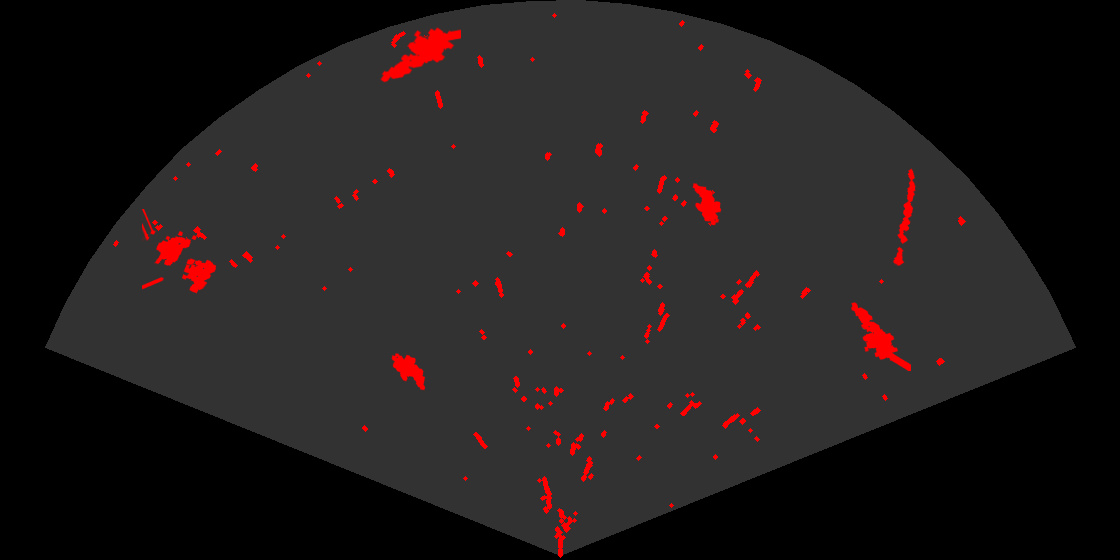AUV: (390, 352, 427, 392), (691, 182, 723, 227)
cage: (142, 209, 218, 295)
chain: (892, 167, 917, 268)
frogman: (379, 26, 461, 84), (849, 301, 911, 371)
